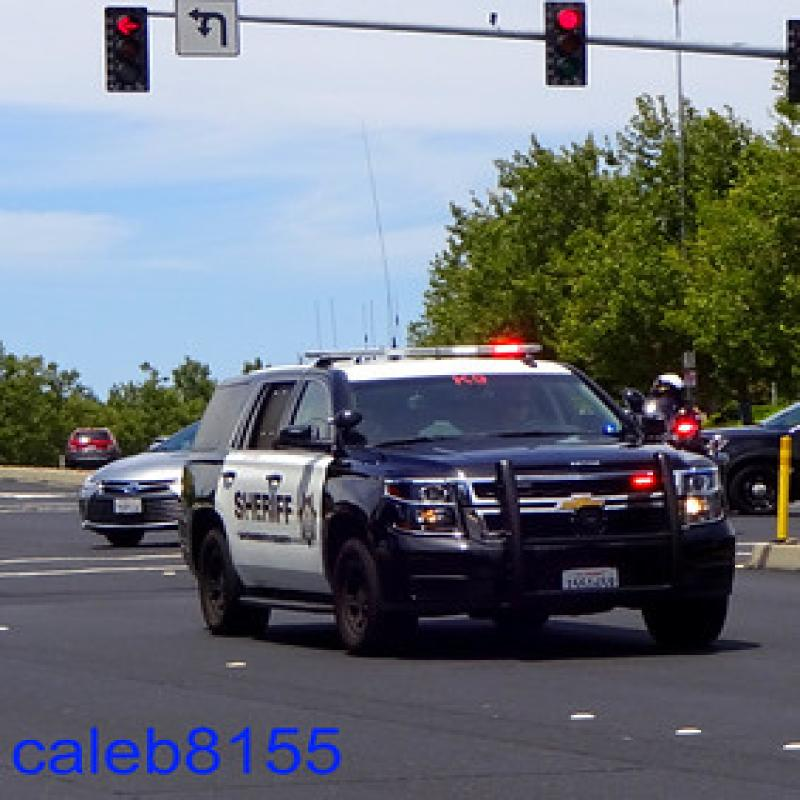AmbulanceSiren: (312, 340, 560, 364)
